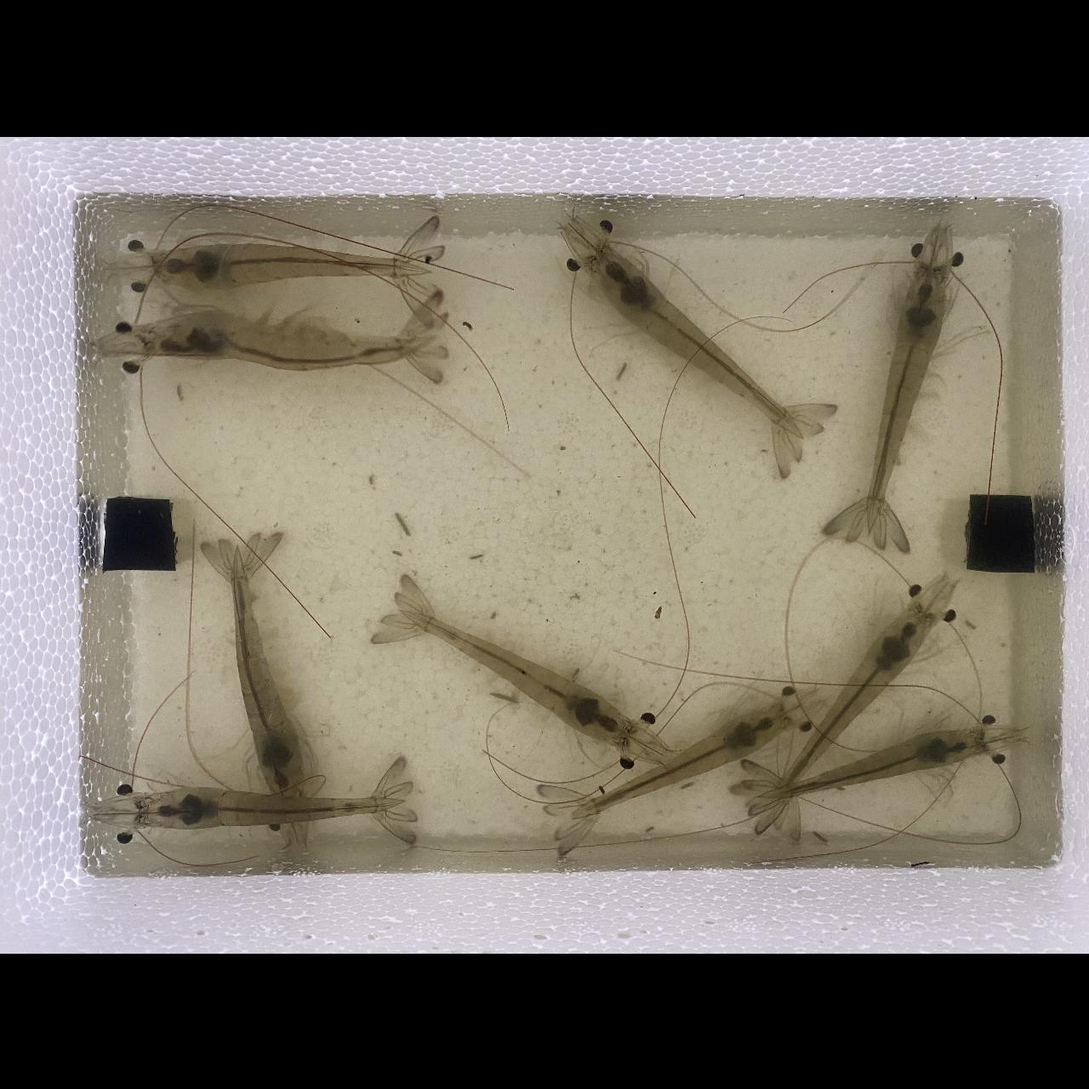box: (966, 493, 1035, 570), (102, 499, 175, 570)
top_shrimp: (589, 250, 801, 436), (402, 611, 626, 744), (784, 609, 931, 783), (575, 710, 784, 817), (864, 271, 944, 529), (231, 553, 308, 800), (141, 310, 432, 369), (756, 730, 990, 796), (150, 245, 420, 289), (138, 786, 402, 829)
